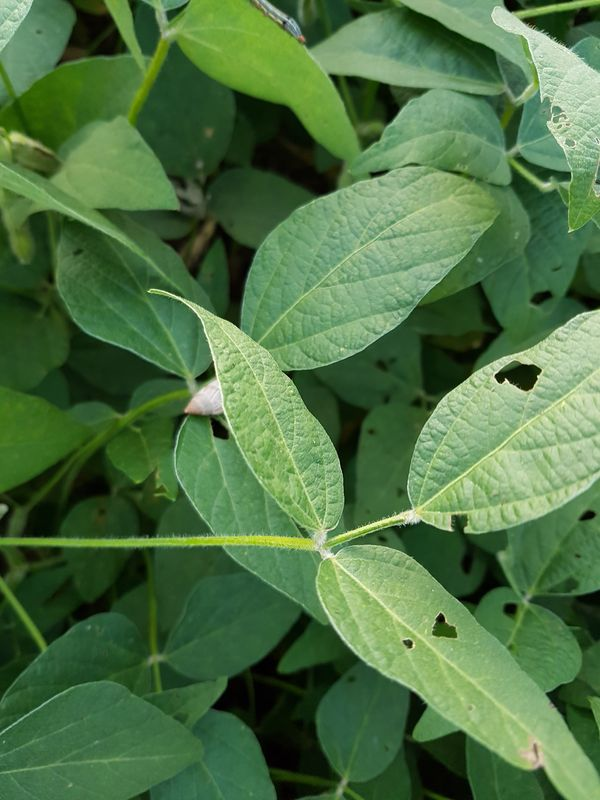Gastropoda: (176, 368, 244, 423)
Spodoptera_albula: (238, 1, 312, 52)
